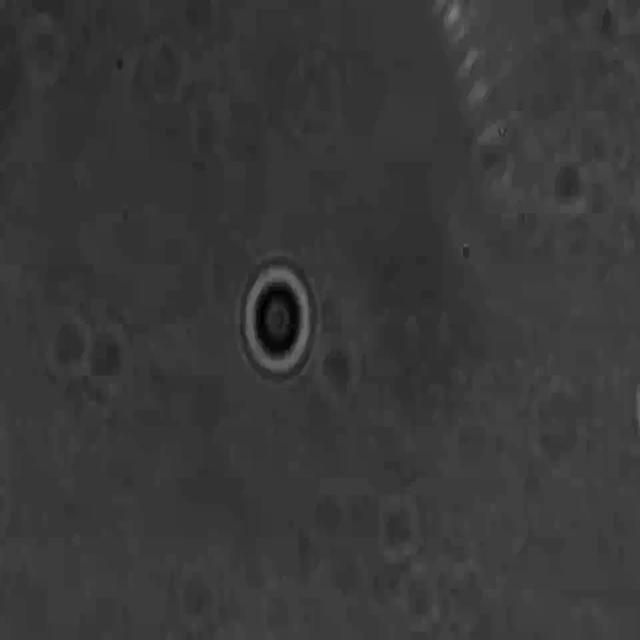LCELL: (239, 251, 321, 390)
